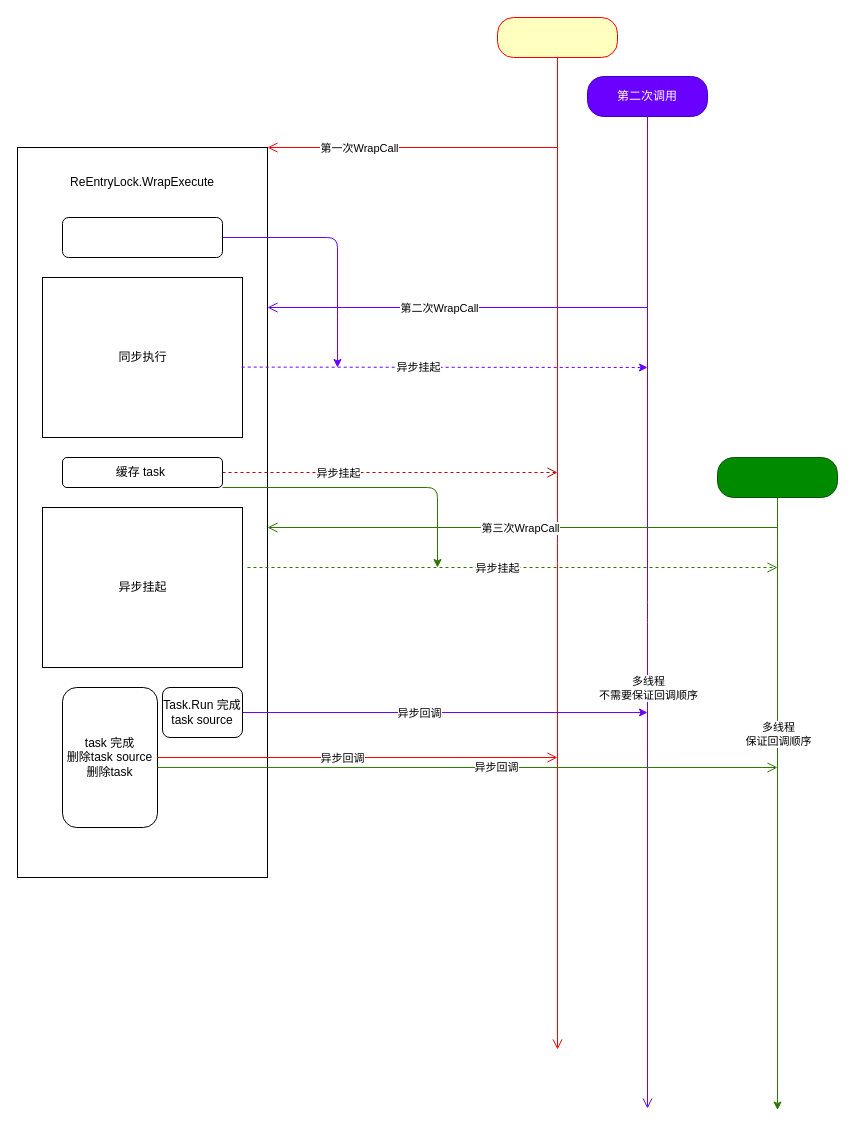
Image size: 855x1136. Some labels were removed from this diagram. Each missing label, with the centre of its shape:
创建并缓存 task source: the point at 142,237
第一次调用: the point at 557,37
第三次调用: the point at 777,477
